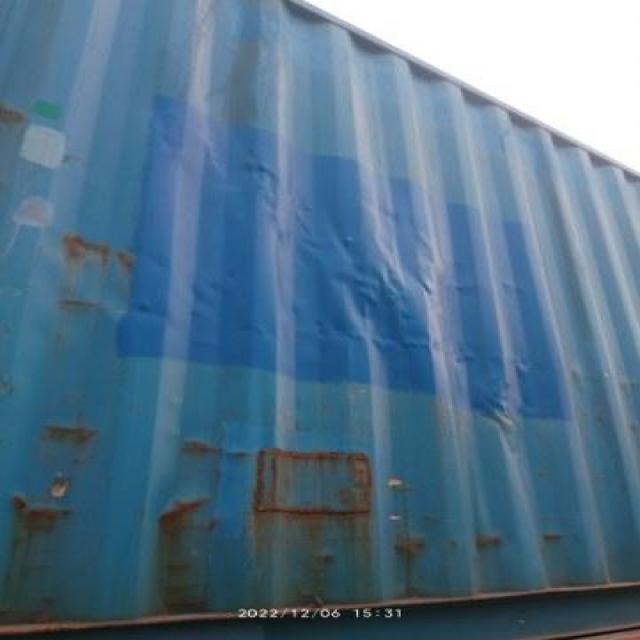rust: (248, 452, 372, 514)
